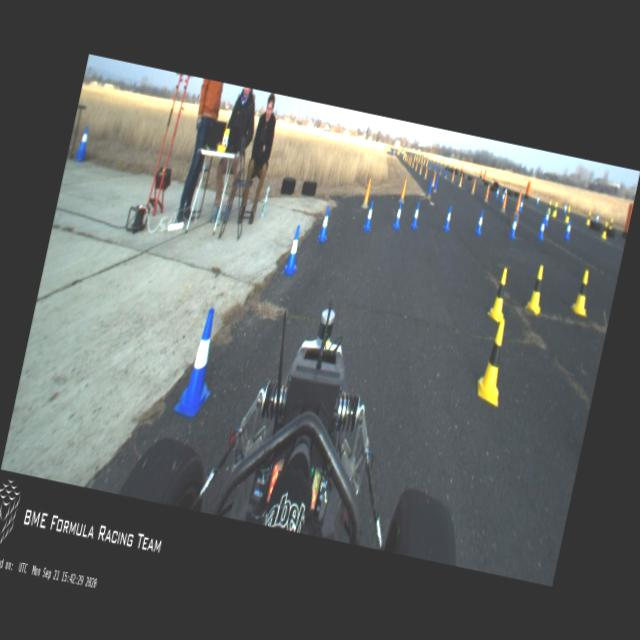blue_cone: (172, 306, 226, 420), (282, 223, 306, 276), (316, 205, 333, 242), (76, 120, 93, 154), (362, 199, 376, 232), (391, 200, 405, 230), (441, 204, 455, 233), (409, 201, 422, 229), (474, 209, 486, 235), (508, 213, 520, 239), (536, 216, 547, 242), (562, 218, 572, 240), (542, 210, 550, 228), (518, 196, 524, 213), (500, 190, 506, 203), (534, 193, 540, 206), (494, 186, 500, 198), (562, 202, 568, 214), (594, 212, 600, 224), (503, 184, 508, 193)
yellow_cone: (473, 316, 516, 406), (486, 266, 514, 322), (524, 264, 550, 316), (569, 268, 595, 316), (600, 220, 610, 240), (562, 204, 572, 222), (550, 200, 559, 218), (585, 210, 593, 224), (546, 198, 552, 214), (608, 217, 614, 230)
